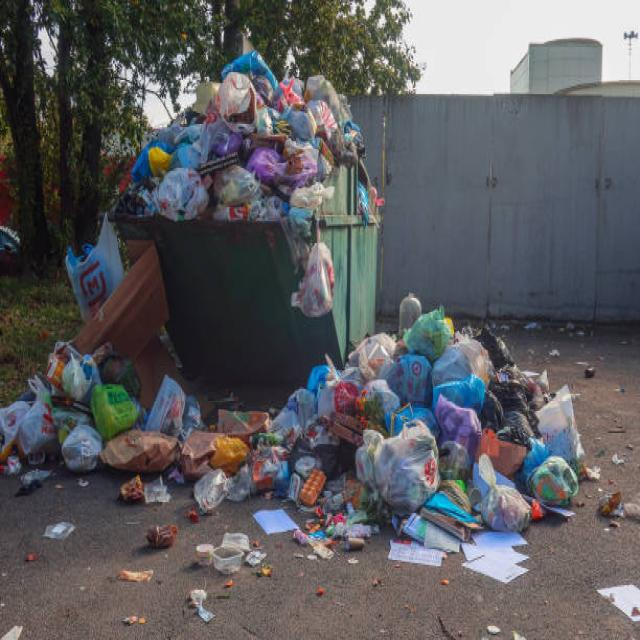garbage: (0, 40, 584, 578)
